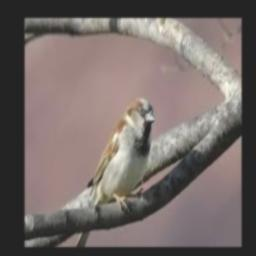Sparrow: (75, 98, 155, 247)
